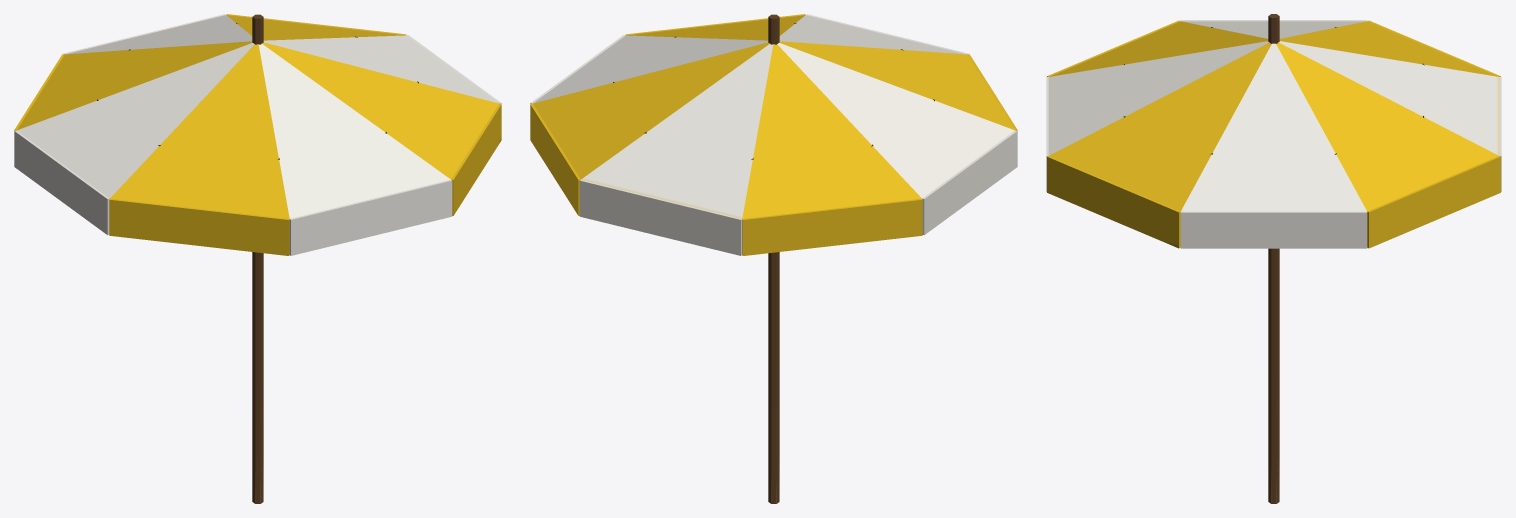
Rendered from slunecnik_5a26973b.glb.
3 views of the same model, side by side, from view 1: azimuth 30°, elevation 25°; view 2: azimuth 150°, elevation 25°; view 3: azimuth 270°, elevation 25° (orthographic).
Visible parts, largest first — view 1: dum; view 2: dum; view 3: dum.
Part boxes in pixels (x1,y1,x2,y2): dum: [14, 14, 501, 503]; dum: [530, 14, 1017, 503]; dum: [1046, 14, 1501, 503].
Size of the model in its own units: 2.05 by 2.41 by 2.05.
1 material, 1 textured.
